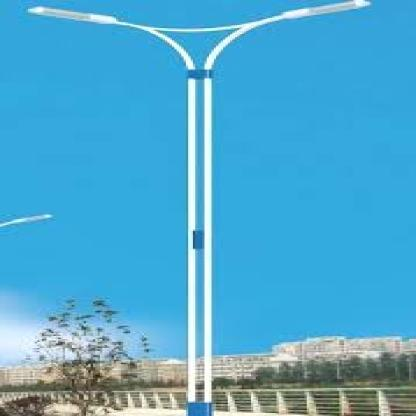light_pole: (28, 2, 372, 415), (3, 212, 54, 240)
